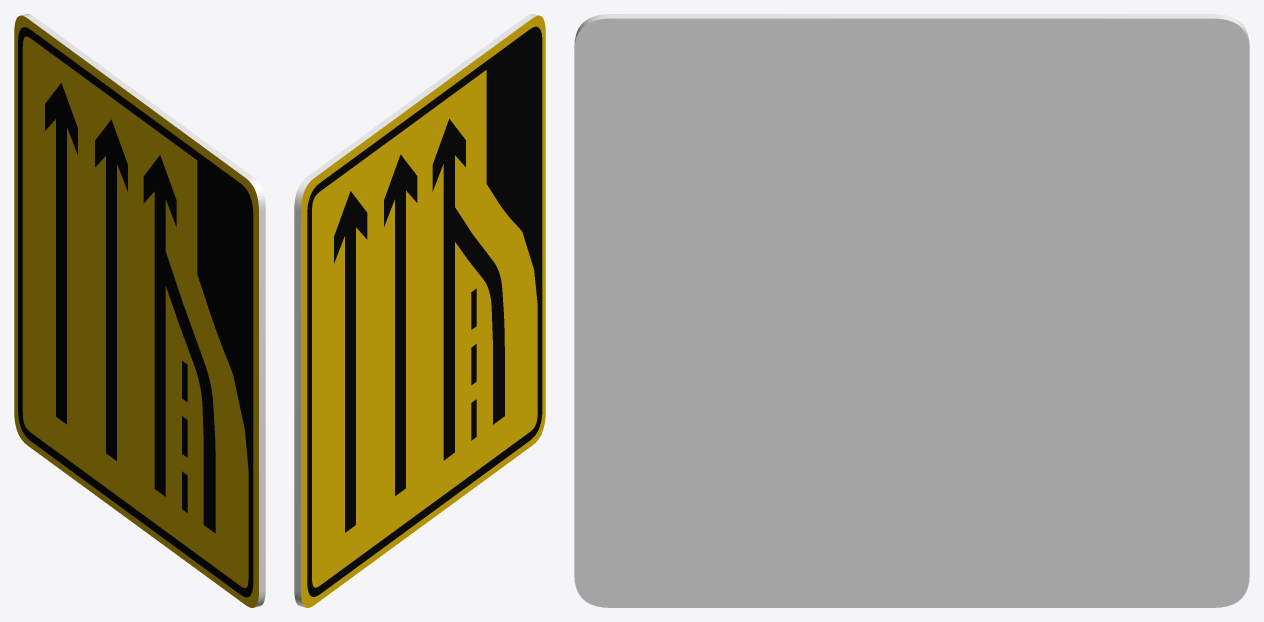
File: Attention_Lane_Reduction_Ahead_2.fbx
3 renders of one model, left to right at view 1: azimuth 30°, elevation 25°; view 2: azimuth 150°, elevation 25°; view 3: azimuth 270°, elevation 25°, orthographic. The views are drawn at different scales.
Visible parts, largest first — view 1: Attention_Lane_Reduction_Ahead_2; view 2: Attention_Lane_Reduction_Ahead_2; view 3: Attention_Lane_Reduction_Ahead_2.
Part boxes in pixels (x1,y1,x2,y2): Attention_Lane_Reduction_Ahead_2: (14,14,265,607); Attention_Lane_Reduction_Ahead_2: (294,14,545,607); Attention_Lane_Reduction_Ahead_2: (574,14,1249,607).
Size of the model in its own units: 0.0355 by 1.83 by 1.9.
